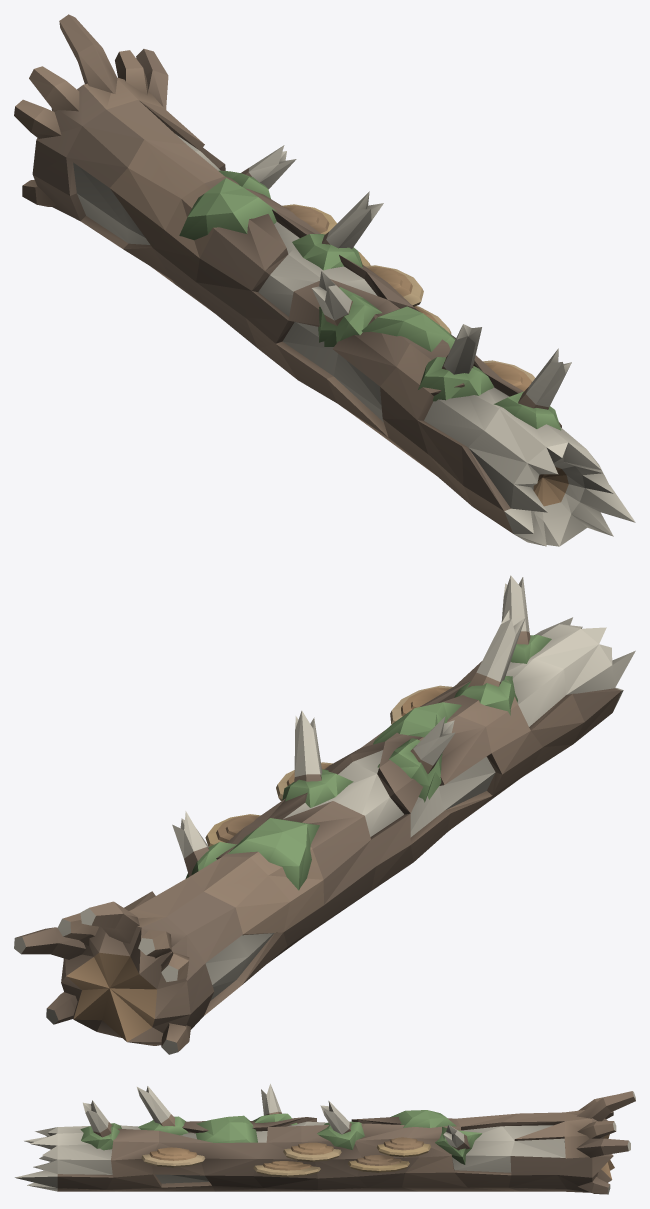
Rendered from fungus.glb.
3 renders of one model, top to bottom at view 1: azimuth 30°, elevation 25°; view 2: azimuth 150°, elevation 25°; view 3: azimuth 270°, elevation 25°, orthographic. The views are drawn at different scales.
Visible parts, largest first — view 1: fungus; view 2: fungus; view 3: fungus.
Part boxes in pixels (x1=…): fungus: x1=14, y1=14, x2=635, y2=546; fungus: x1=14, y1=575, x2=635, y2=1054; fungus: x1=15, y1=1084, x2=635, y2=1194.
Size of the model in its own units: 1.2 by 1.22 by 7.2.
